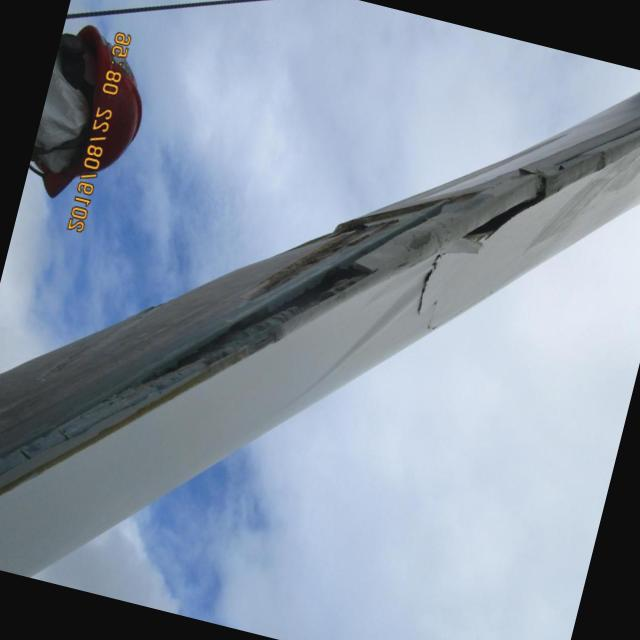crack: (208, 99, 566, 418)
